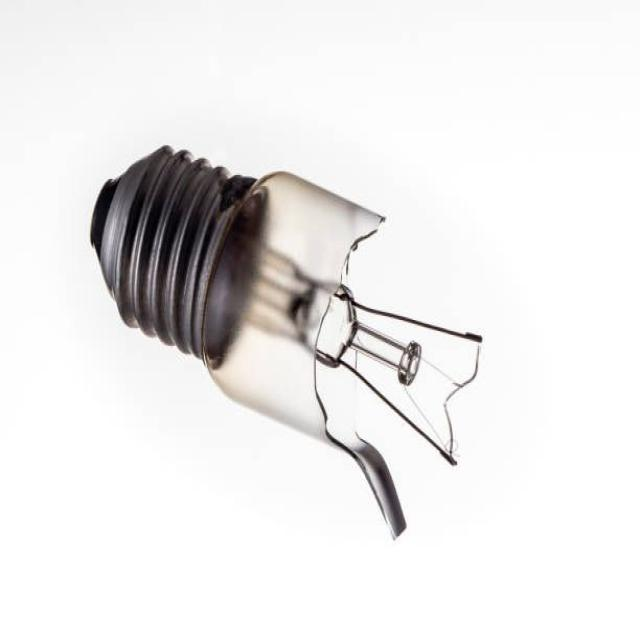electronic: (88, 142, 483, 540)
